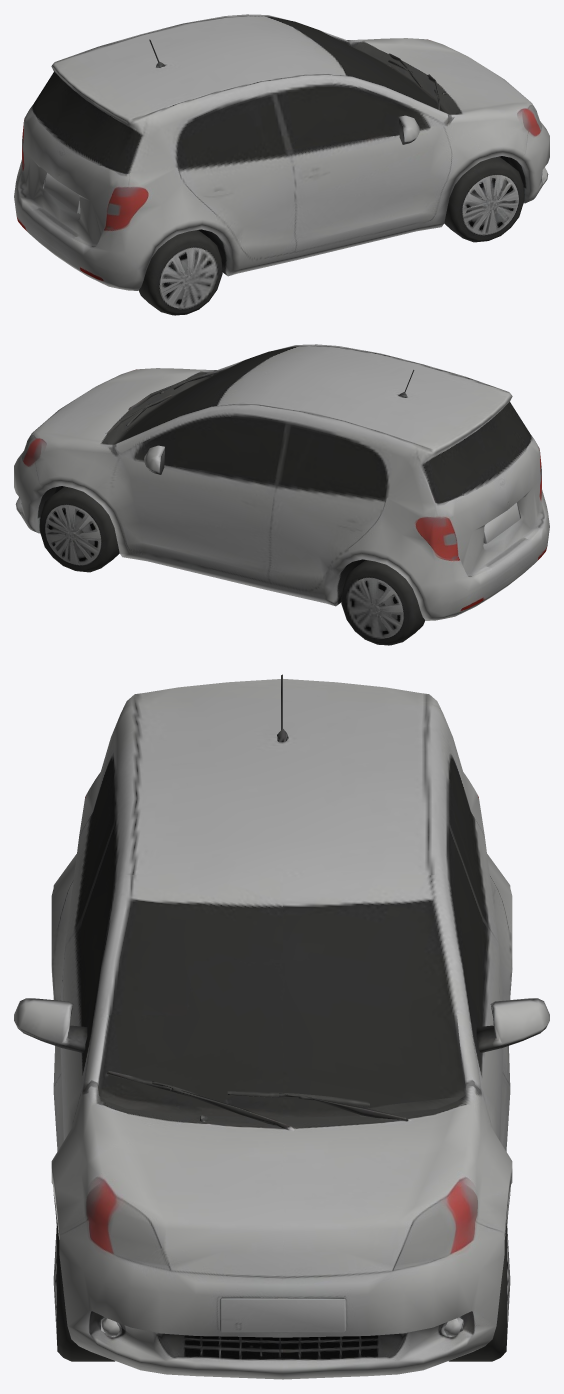
File: compact.glb
3 views of the same model, one above another, from view 1: azimuth 30°, elevation 25°; view 2: azimuth 150°, elevation 25°; view 3: azimuth 270°, elevation 25° (orthographic). The views are drawn at different scales.
Visible parts, largest first — view 1: tripo_node_947e1946-165a-4b1e-af9a-e6ec78bde91b; view 2: tripo_node_947e1946-165a-4b1e-af9a-e6ec78bde91b; view 3: tripo_node_947e1946-165a-4b1e-af9a-e6ec78bde91b.
Boxes of the visible parts, x1=… form: tripo_node_947e1946-165a-4b1e-af9a-e6ec78bde91b: x1=14, y1=14, x2=549, y2=315; tripo_node_947e1946-165a-4b1e-af9a-e6ec78bde91b: x1=14, y1=344, x2=549, y2=645; tripo_node_947e1946-165a-4b1e-af9a-e6ec78bde91b: x1=14, y1=674, x2=549, y2=1379.
Size of the model in its own units: 0.998 by 0.4629 by 0.5293.
Materials: 1 (1 with a texture image).
